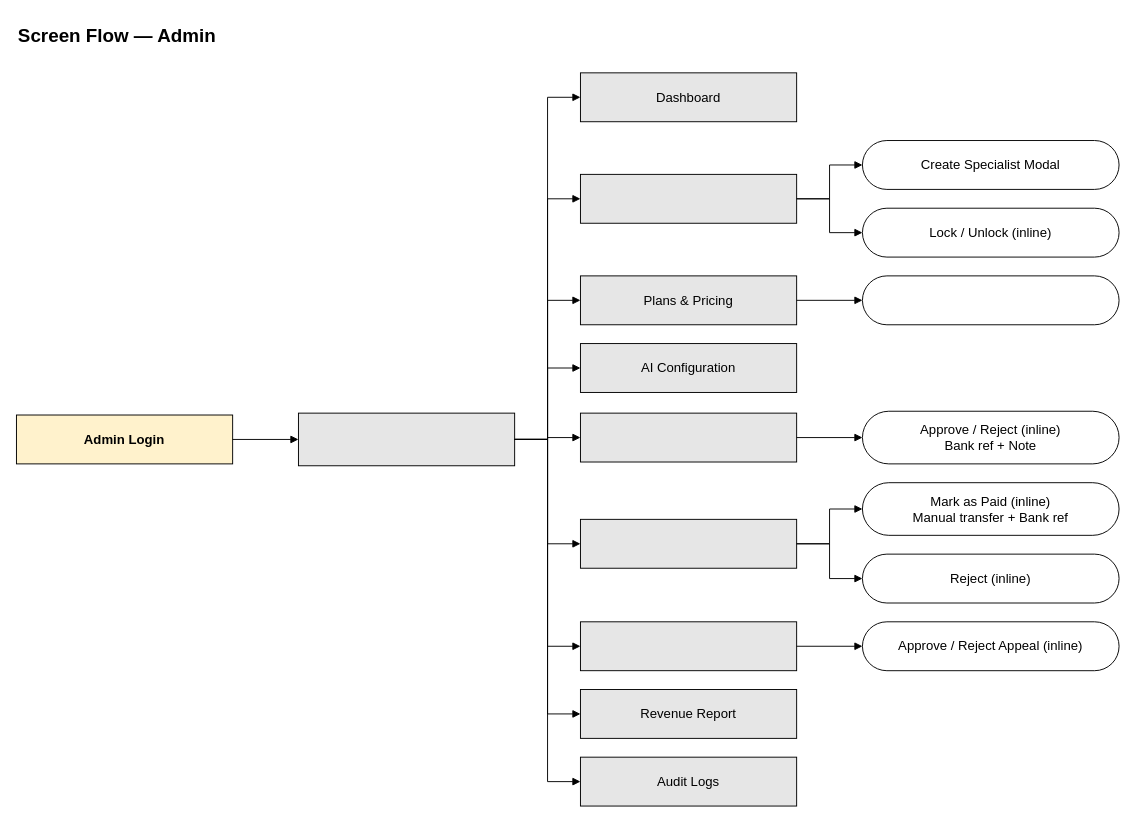
Image size: 1136x823. Some labels were removed from this diagram. Here are the shapes that lost their labels. From the top down, the centre of each, then its label:
the point at 688,198: Accounts
the point at 990,300: Plan Form Modal
the point at 406,439: Admin Layout (Sidebar 9 items)
the point at 688,437: Refunds
the point at 688,543: Seller Withdrawals
the point at 688,646: Strike Appeals
